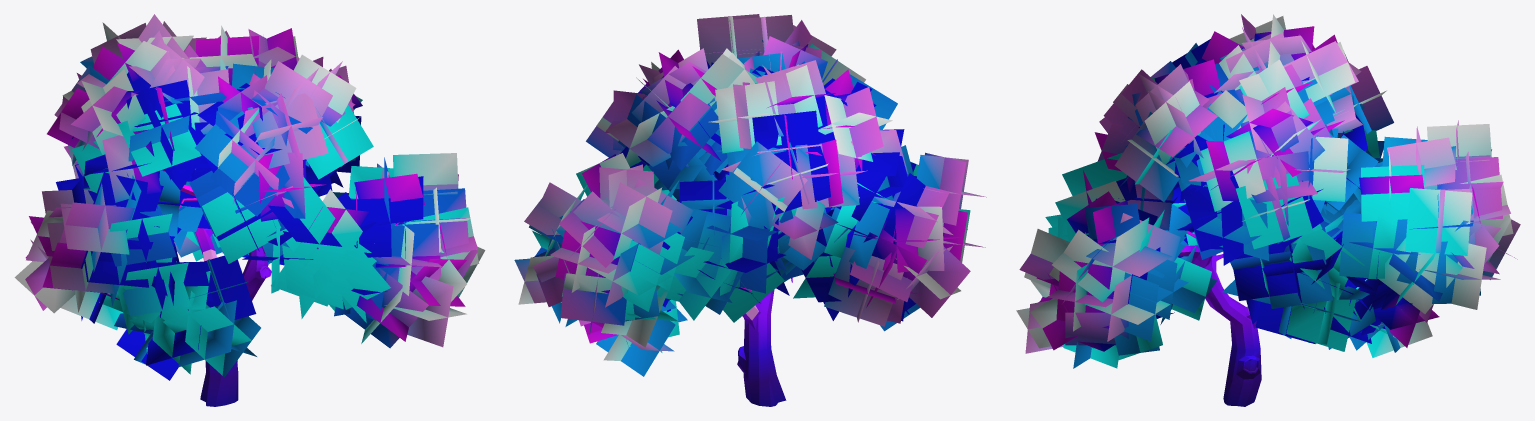
Rendered from PT_Fruit_Tree_01_green_cut.fbx.
3 renders of one model, left to right at view 1: azimuth 30°, elevation 25°; view 2: azimuth 150°, elevation 25°; view 3: azimuth 270°, elevation 25°, orthographic.
Visible parts, largest first — view 1: PT_Fruit_Tree_01_green_cut; view 2: PT_Fruit_Tree_01_green_cut; view 3: PT_Fruit_Tree_01_green_cut.
Part boxes in pixels (box(x1,y1,x2,y2)): PT_Fruit_Tree_01_green_cut: box(14, 14, 485, 406); PT_Fruit_Tree_01_green_cut: box(514, 14, 986, 406); PT_Fruit_Tree_01_green_cut: box(1016, 14, 1520, 406).
Bounding box in the file's own units: 650 × 566 × 725.
